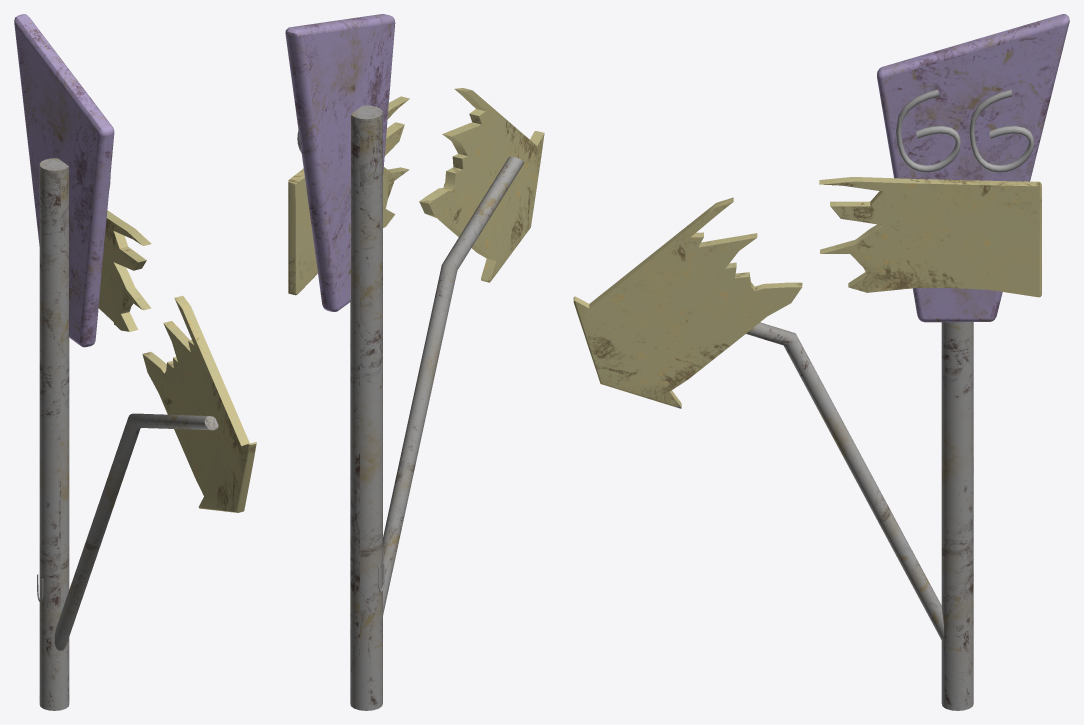
Rendered from 66_sign.fbx.
The picture shows the model from 3 angles, left to right: view 1: azimuth 30°, elevation 25°; view 2: azimuth 150°, elevation 25°; view 3: azimuth 270°, elevation 25°; orthographic projection. The views are drawn at different scales.
Visible parts, largest first — view 1: polySurface229, polySurface228, polySurface227, polySurface226, polySurface225; view 2: polySurface229, polySurface228, polySurface227, polySurface226, polySurface225; view 3: polySurface228, polySurface227, polySurface225, polySurface229, polySurface226, polySurface223, polySurface224.
Boxes of the visible parts, bbox=[...] form: polySurface229: bbox=[39, 158, 69, 710]; polySurface228: bbox=[14, 14, 114, 347]; polySurface227: bbox=[142, 296, 256, 512]; polySurface226: bbox=[54, 413, 218, 650]; polySurface225: bbox=[98, 210, 151, 331]; polySurface229: bbox=[350, 105, 382, 710]; polySurface228: bbox=[285, 14, 395, 311]; polySurface227: bbox=[419, 88, 544, 282]; polySurface226: bbox=[383, 156, 524, 614]; polySurface225: bbox=[288, 96, 409, 295]; polySurface228: bbox=[877, 14, 1069, 322]; polySurface227: bbox=[573, 197, 802, 408]; polySurface225: bbox=[819, 177, 1041, 297]; polySurface229: bbox=[941, 322, 973, 710]; polySurface226: bbox=[746, 322, 943, 640]; polySurface223: bbox=[896, 89, 960, 172]; polySurface224: bbox=[969, 89, 1034, 172].
Size of the model in its own units: 0.3642 by 4.72 by 3.04.
